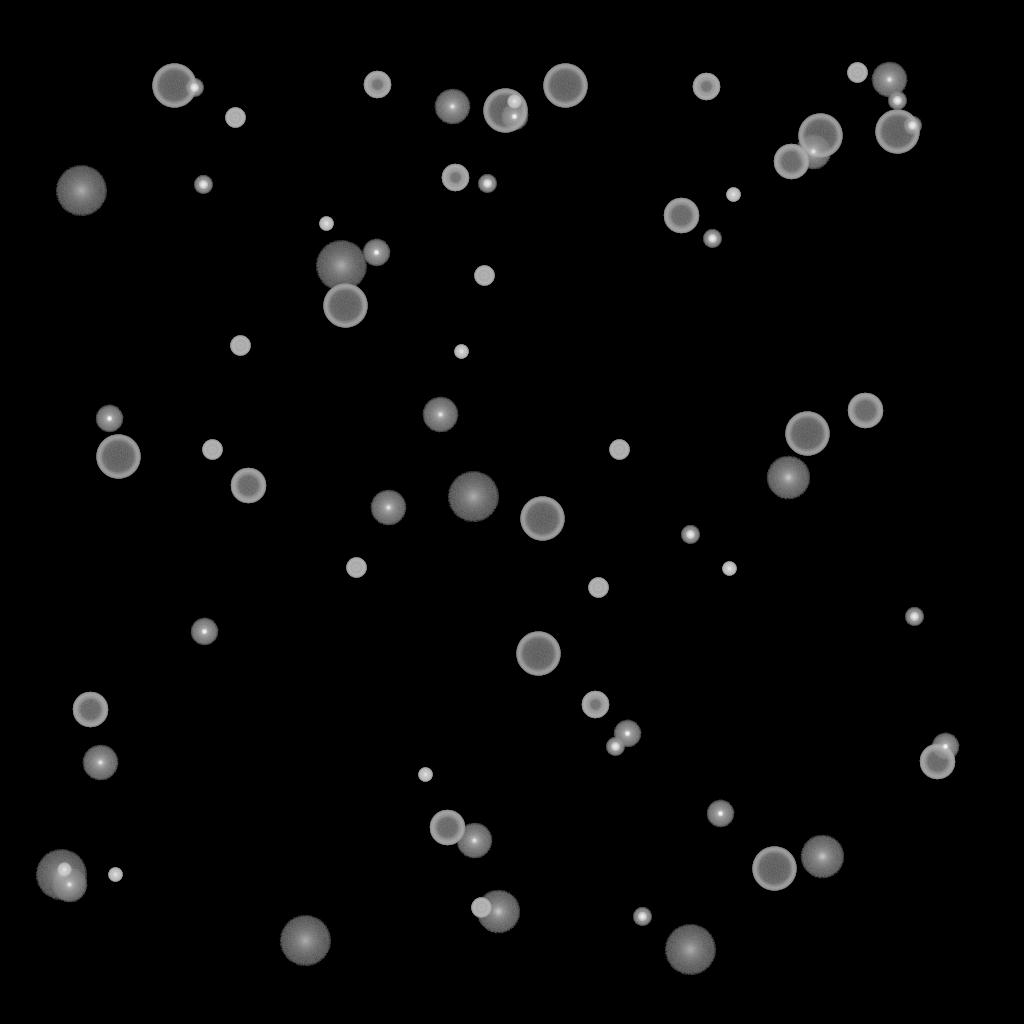depth:-10: (613, 720, 641, 748), (706, 800, 734, 828), (931, 733, 959, 761), (500, 103, 528, 131), (362, 239, 390, 267), (95, 405, 123, 433), (190, 618, 218, 646)
depth:-20: (681, 526, 699, 544), (194, 176, 212, 194), (478, 175, 496, 193), (185, 79, 203, 97), (888, 92, 906, 110), (633, 908, 651, 926), (903, 117, 921, 135), (606, 738, 624, 756), (703, 230, 721, 248), (905, 608, 923, 626)
depth:-30: (108, 868, 122, 882), (57, 863, 71, 877), (319, 217, 333, 231), (507, 95, 521, 109), (418, 768, 432, 782), (722, 562, 736, 576), (454, 345, 468, 359), (726, 188, 740, 202)
depth:-40: (588, 578, 608, 598), (202, 440, 222, 460), (471, 898, 491, 918), (847, 63, 867, 83), (609, 440, 629, 460), (225, 108, 245, 128), (474, 266, 494, 286), (346, 558, 366, 578), (230, 336, 250, 356)
depth:-50: (363, 71, 391, 99), (581, 691, 609, 719), (441, 164, 469, 192), (692, 73, 720, 101)
depth:-60: (773, 144, 809, 180), (429, 810, 465, 846), (847, 393, 883, 429), (230, 468, 266, 504), (663, 198, 699, 234), (919, 744, 955, 780), (72, 692, 108, 728)
depth:-70: (152, 64, 196, 108), (543, 64, 587, 108), (483, 89, 527, 133), (785, 412, 829, 456), (516, 632, 560, 676), (752, 847, 796, 891), (875, 110, 919, 154), (96, 435, 140, 479), (798, 114, 842, 158), (520, 497, 564, 541), (323, 284, 367, 328)
depth:0: (795, 134, 831, 170), (422, 397, 458, 433), (434, 89, 470, 125), (456, 823, 492, 859), (871, 62, 907, 98), (82, 745, 118, 781), (370, 490, 406, 526), (51, 867, 87, 903)
depth:10: (766, 456, 810, 500), (476, 890, 520, 934), (800, 835, 844, 879)
depth:20: (35, 850, 87, 900), (447, 472, 499, 522), (315, 241, 367, 291), (664, 925, 716, 975), (279, 916, 331, 966), (55, 166, 107, 216)
